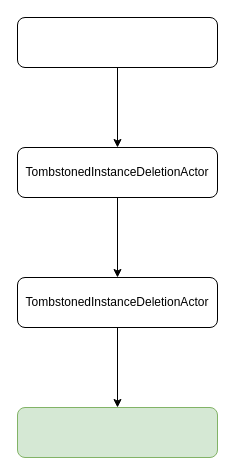
Some shapes in this 235 by 475 pixel diagram are drawn without their labels. The centre of each missing label's shape, as x and y in pixels:
"AzureManagedDiskDeletionActor" belongs at point 117,432.
"TombstonedServerDeletionActor" belongs at point 117,42.
